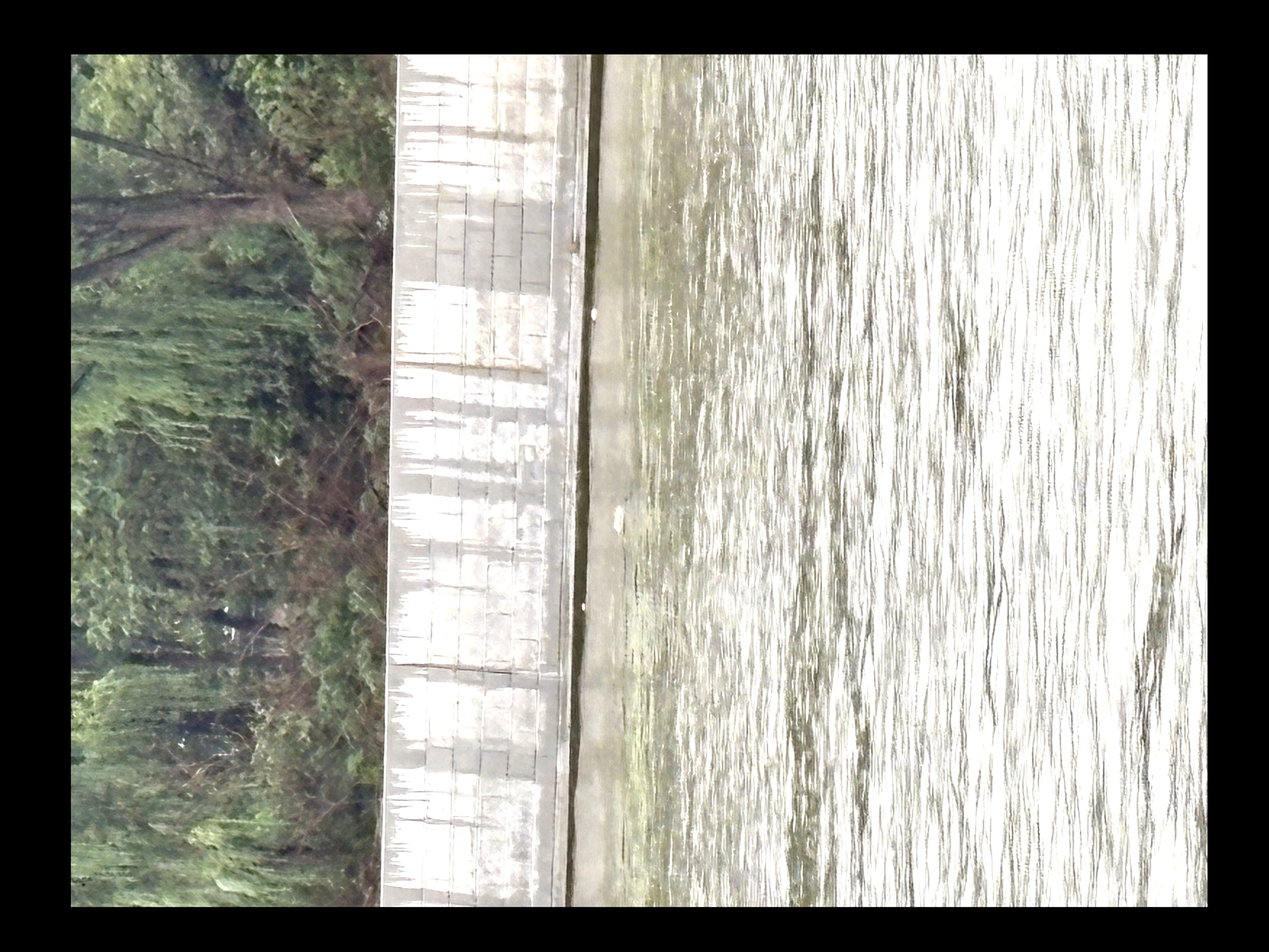Plastic wastes: (633, 491, 653, 520), (610, 290, 624, 309), (599, 590, 614, 597)
